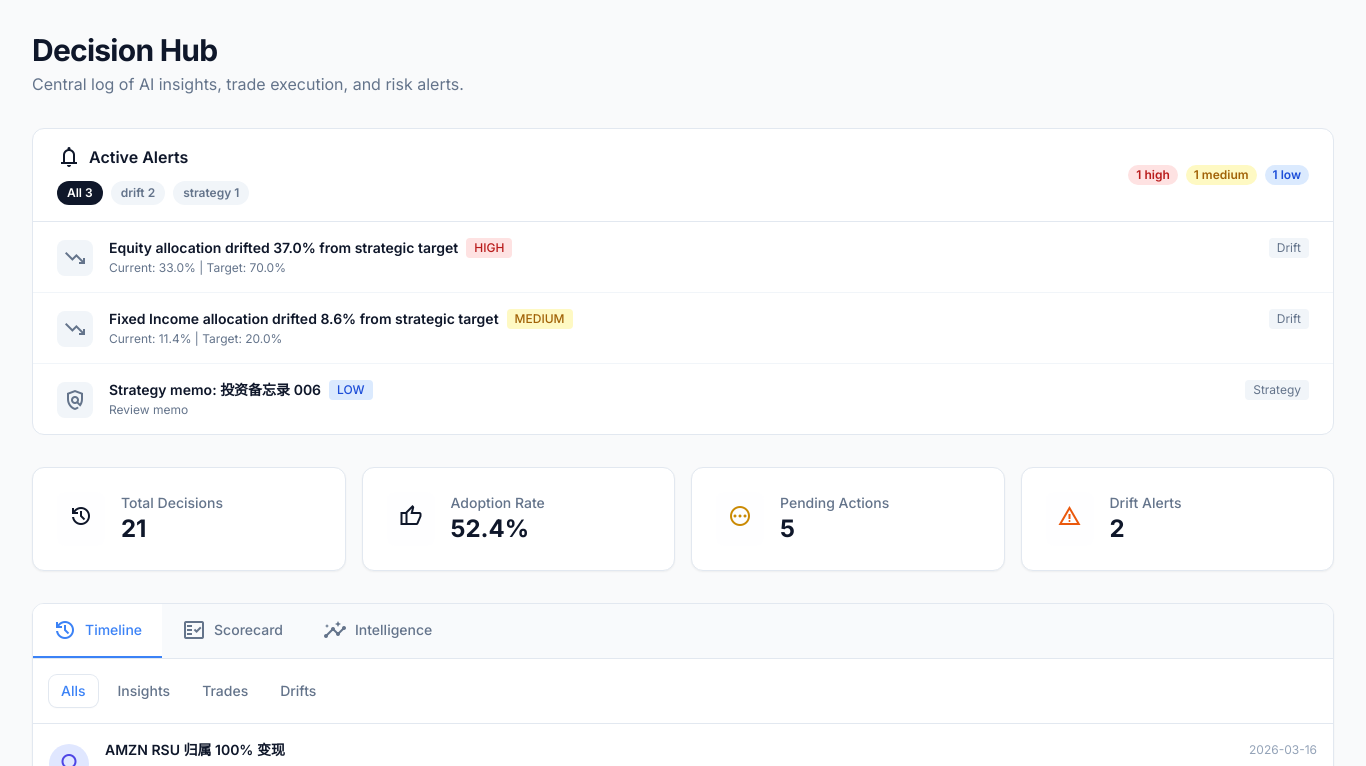
DecisionHub cards › filters active alerts when drift and pending action cards are clicked
Expected: the text "Strategy memo: 投资备忘录 006" is shown, x1=109 y1=380 x2=321 y2=400
What coordinates should you click on to do the following:
click the button "Drift Alerts 2"
I would click on:
 (1070, 519)
Its box is x1=1020 y1=467 x2=1334 y2=571.
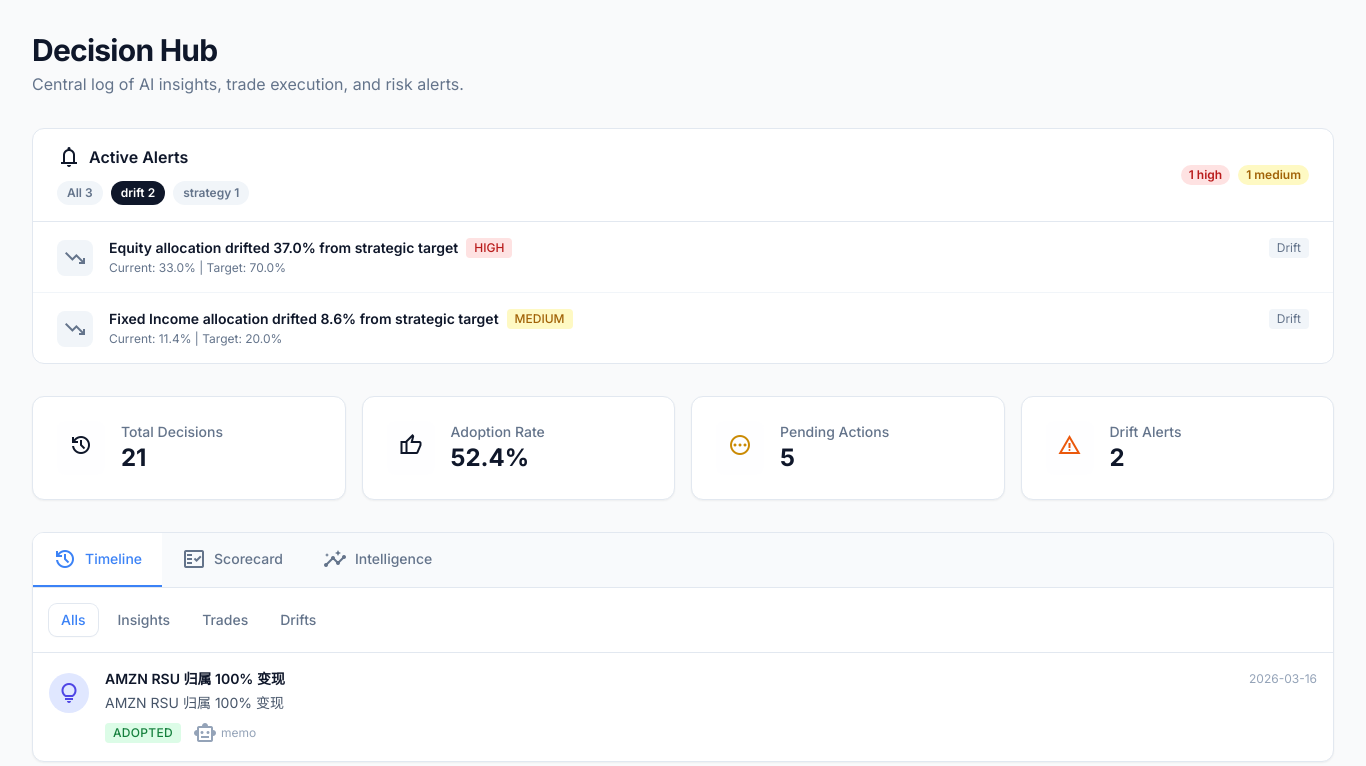
Expected: the text "Equity allocation drifted 37.0% from strategic target" is shown, x1=109 y1=238 x2=458 y2=258
Result: the text "Strategy memo: 投资备忘录 006" is gone
What coordinates should you click on to do the following:
click the button "Pending Actions 5"
I would click on:
 (740, 448)
Its box is x1=691 y1=396 x2=1004 y2=500.
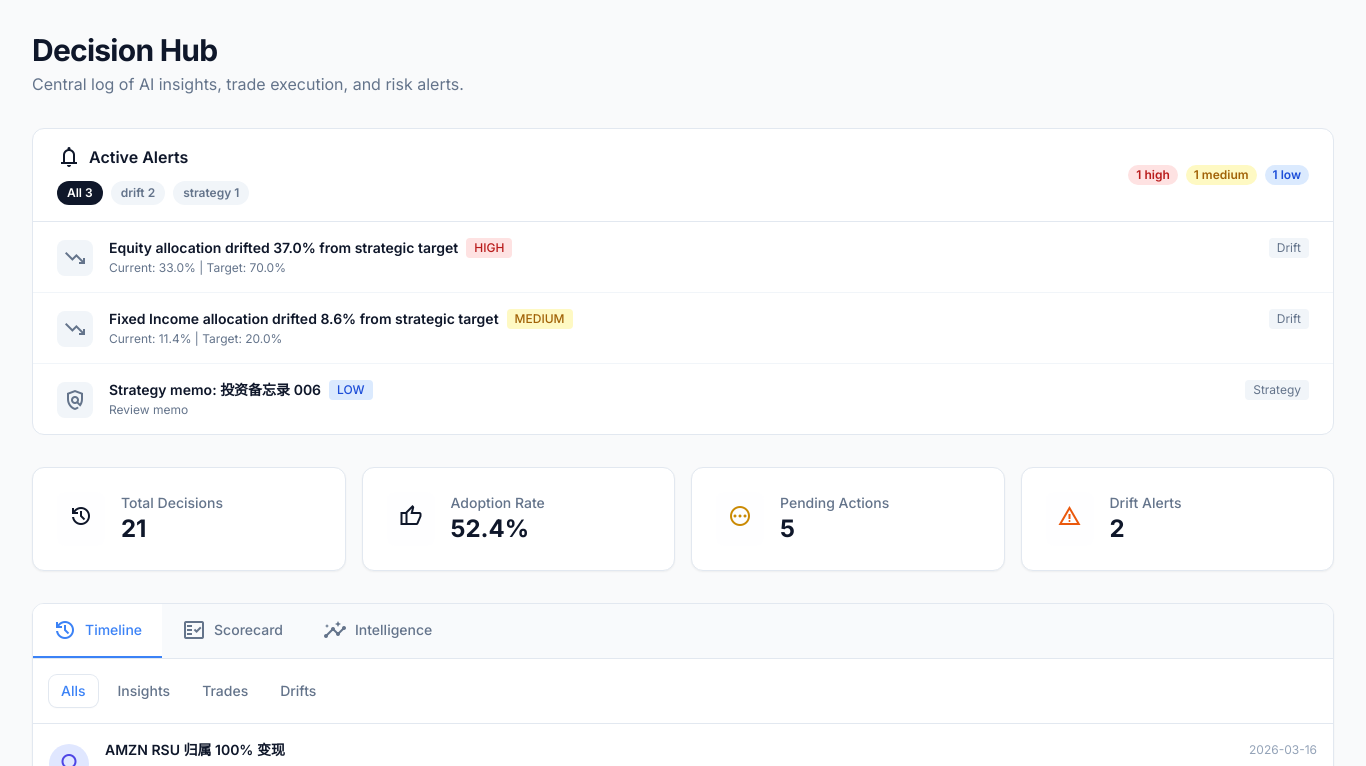
Result: the text "Strategy memo: 投资备忘录 006" is shown at x1=109 y1=380 x2=321 y2=400
